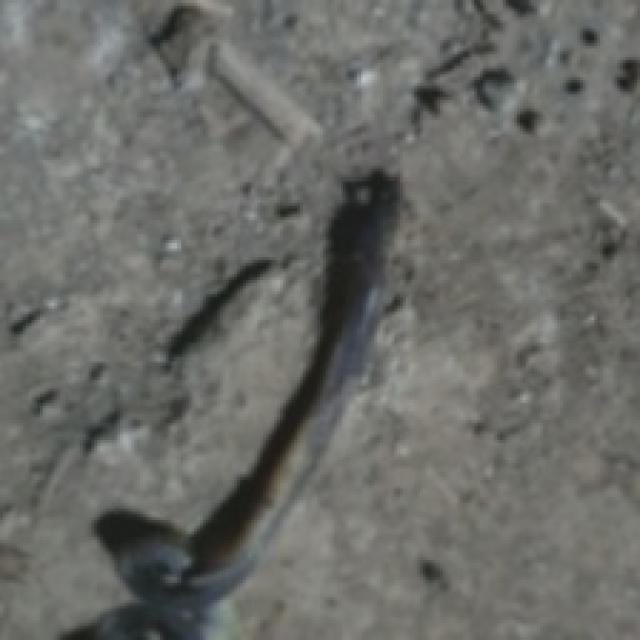gervais worm snake: (60, 171, 397, 637), (97, 171, 397, 637)
